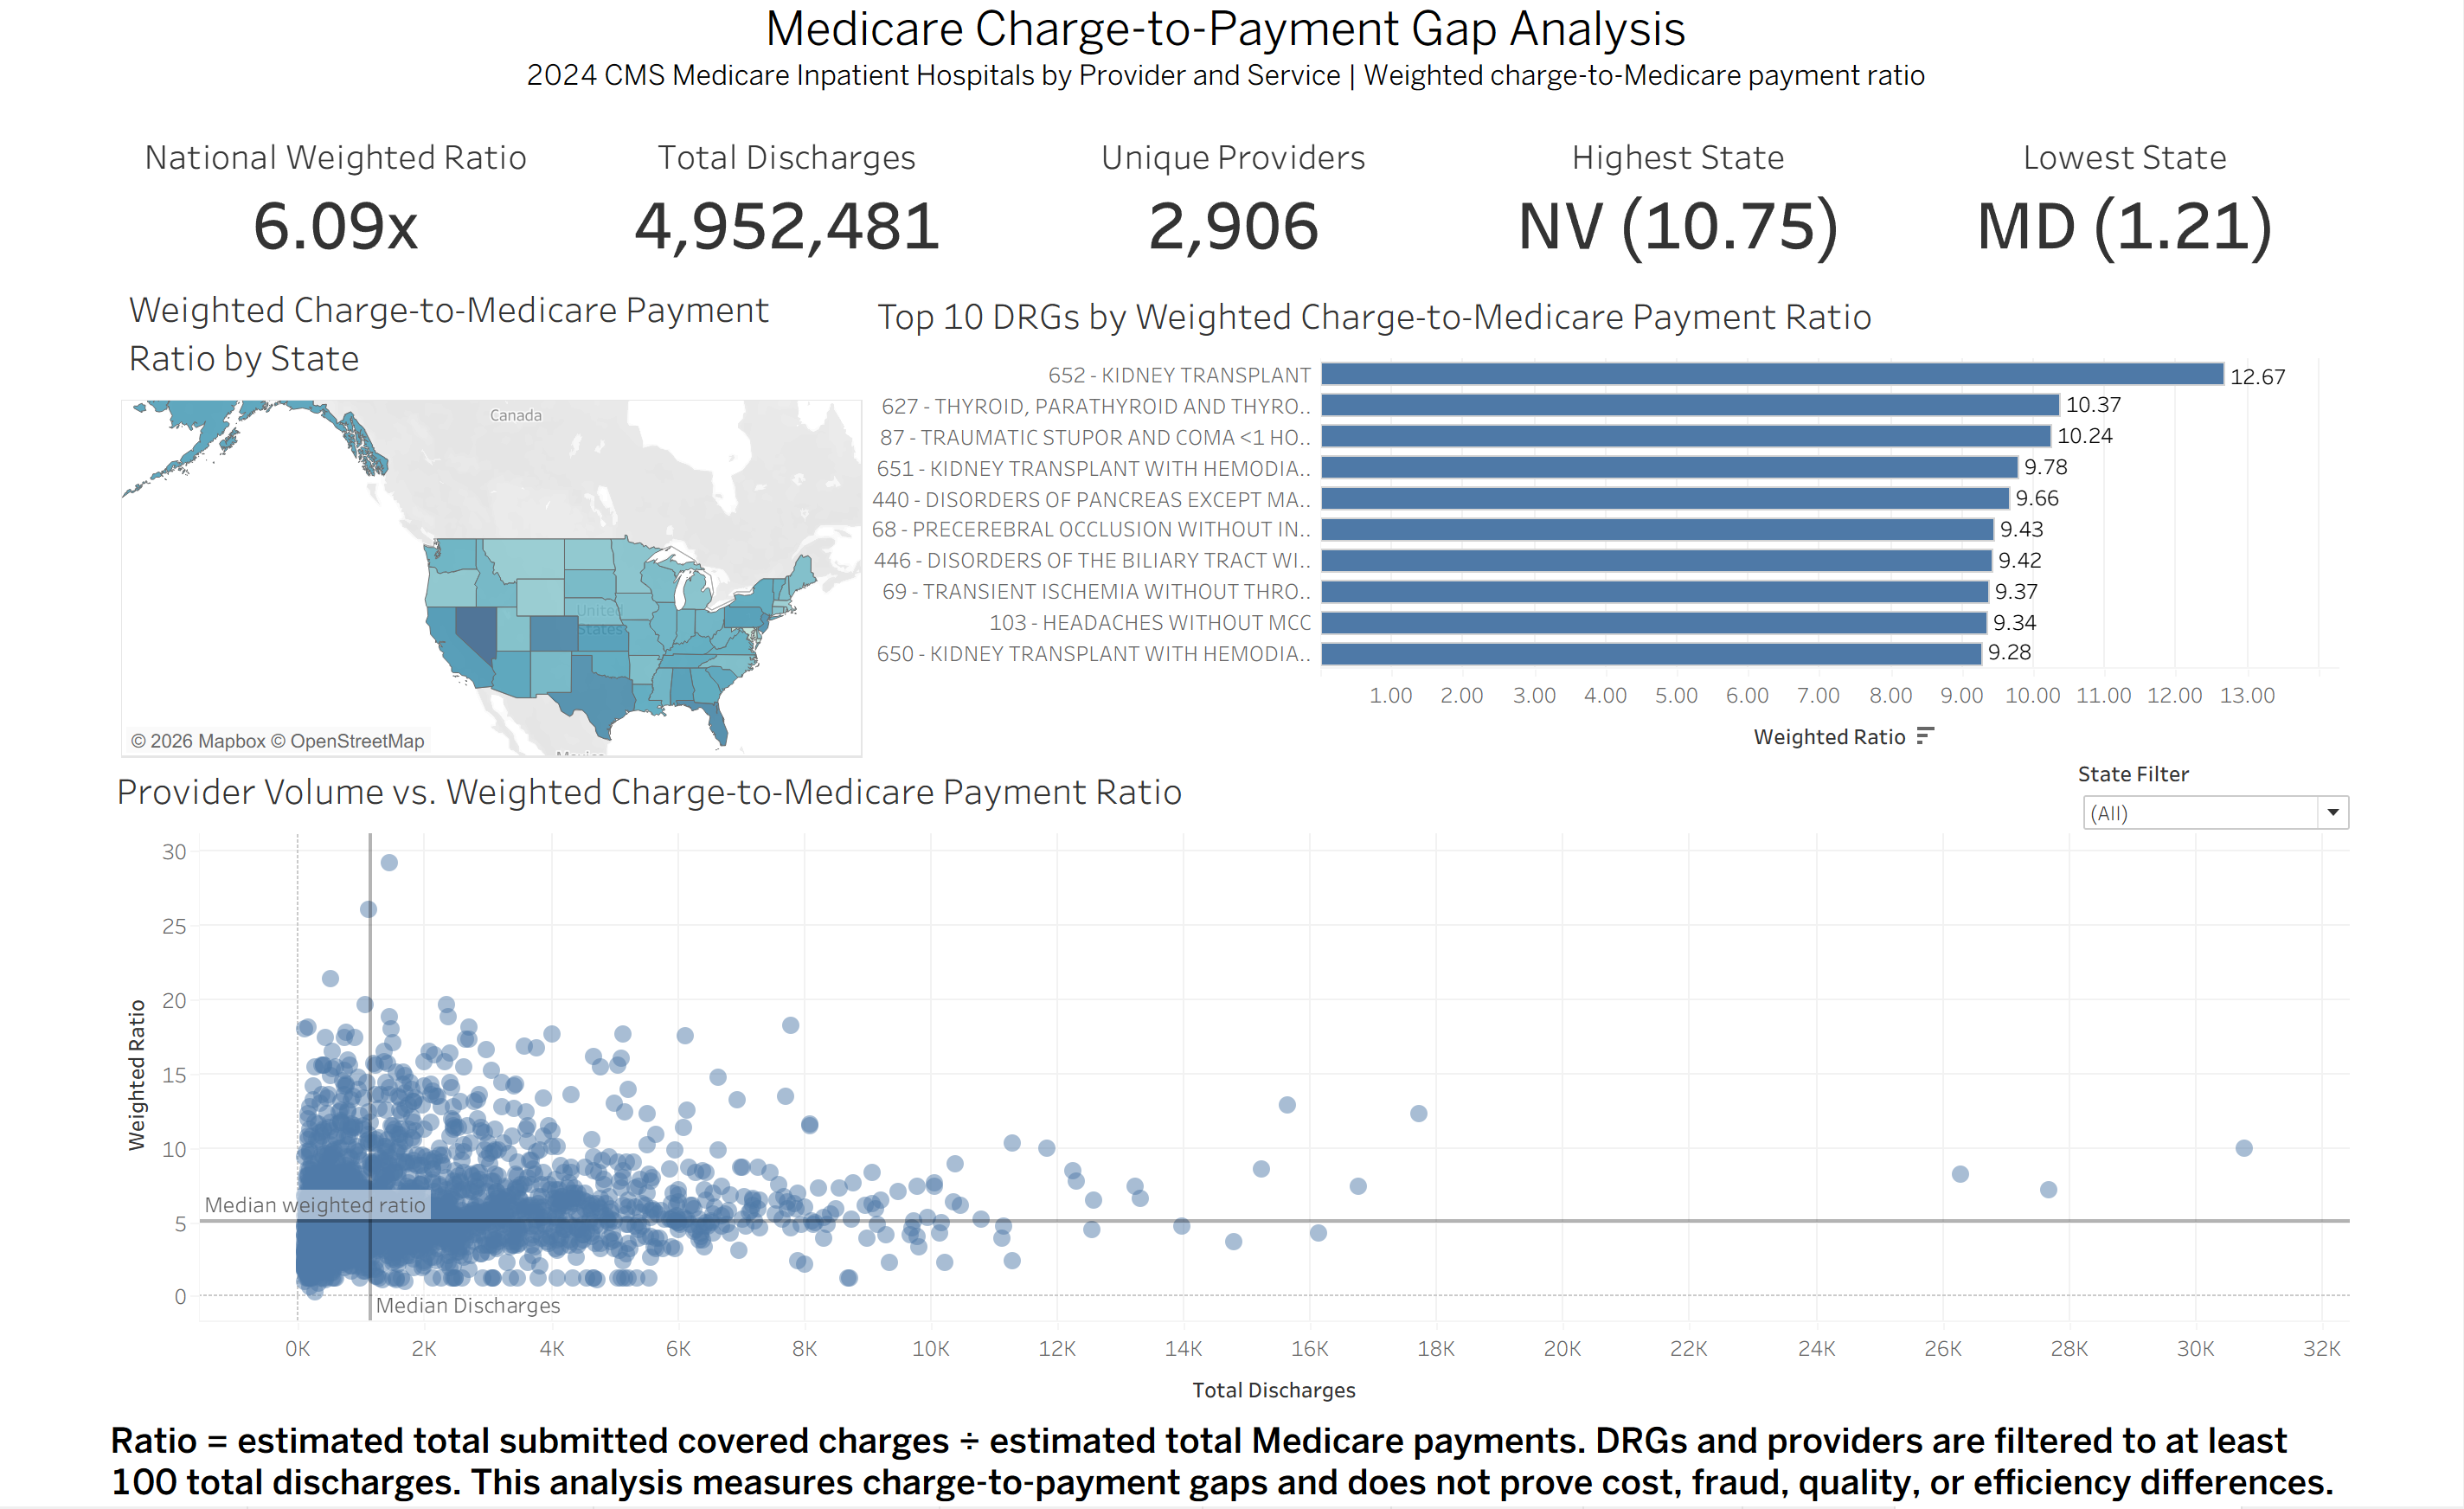

Layout of this report page (visuals, bound fields, positions):
{"tool":"tableau","page":{"name":"Medicare Charge-to-Payment Gap Analysis","canvas":[1300,900],"ordinal":0},"visuals":[{"type":"text","box":[0,7,1295,65]},{"type":"worksheet","title":"National Weighted Ratio","mark":"Automatic","box":[1,70,264,119]},{"type":"worksheet","title":"Total Discharges","mark":"Automatic","box":[265,70,257.8,119]},{"type":"worksheet","title":"Unique Providers","mark":"Automatic","box":[522.7,70,257.8,119]},{"type":"worksheet","title":"Highest State","mark":"Automatic","box":[780.5,70,257.8,119]},{"type":"worksheet","title":"Lowest State","mark":"Automatic","box":[1038.2,70,257.8,119]},{"type":"worksheet","title":"Weighted Charge-to-Medicare Payment Ratio by State","mark":"Automatic","box":[5,169,437,286]},{"type":"worksheet","title":"Top 10 DRGs by Weighted Charge-to-Medicare Payment Ratio","mark":"Bar","rows":["Calculation_2282879345164288"],"cols":["weighted_ratio"],"box":[438,173,857,285]},{"type":"worksheet","title":"Provider Volume vs. Weighted Charge-to-Medicare Payment Ratio","mark":"Circle","rows":["weighted_ratio"],"cols":["total_discharges"],"box":[2,451,1295,380]},{"type":"text","box":[0,815,1299,85]}]}

Visuals, with their boxes on the page's 1300x900 design canvas (x1, y1, x2, y2). These are canvas units, not pixel positions in the 2464x1509 screenshot, which may show the page scaled, cropped or inside an application window:
text: 0,7,1295,72
"National Weighted Ratio" worksheet: 1,70,265,189
"Total Discharges" worksheet: 265,70,523,189
"Unique Providers" worksheet: 523,70,780,189
"Highest State" worksheet: 780,70,1038,189
"Lowest State" worksheet: 1038,70,1296,189
"Weighted Charge-to-Medicare Payment Ratio by State" worksheet: 5,169,442,455
"Top 10 DRGs by Weighted Charge-to-Medicare Payment Ratio" worksheet (Bar marks): 438,173,1295,458
"Provider Volume vs. Weighted Charge-to-Medicare Payment Ratio" worksheet (Circle marks): 2,451,1297,831
text: 0,815,1299,900
